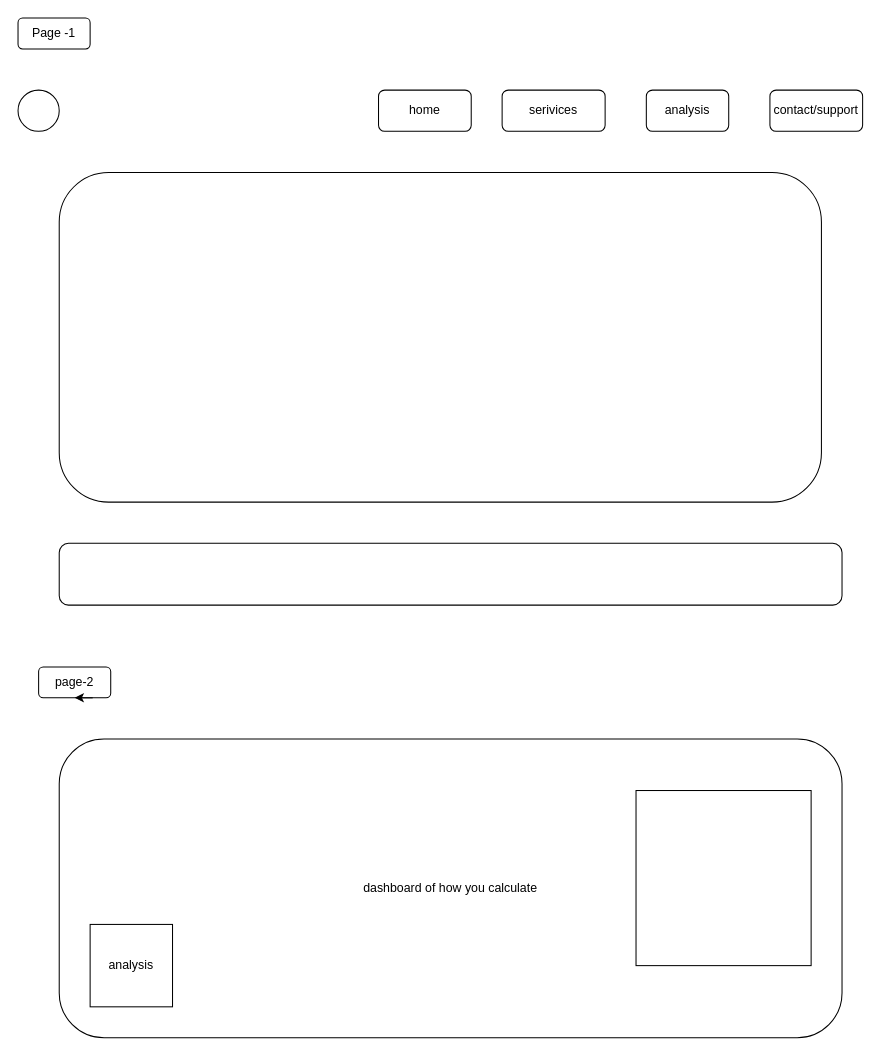
Some shapes in this 881 by 1056 pixel diagram are drawn without their labels. The centre of each missing label's shape, as x and y in pixels:
"about the project , how it works , future plans , roi , adv" belongs at (439,336).
"footer" belongs at (450,573).
"ICON" belongs at (38,110).
